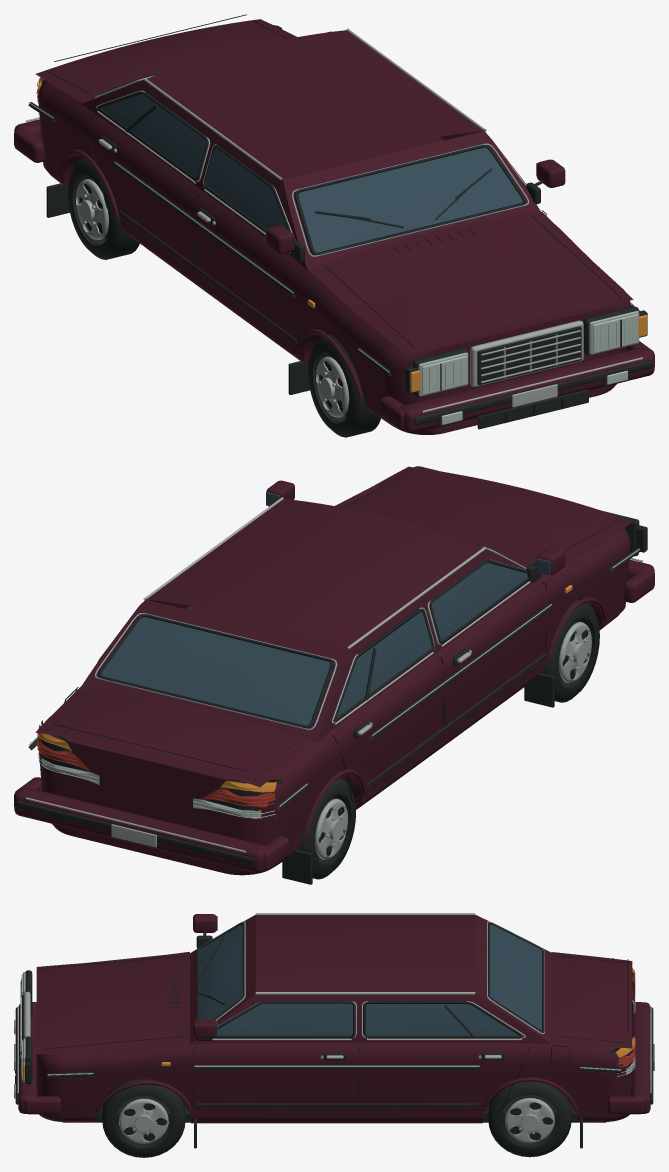
The model's file is luxury_sedan.glb.
3 views of the same model, one above another, from view 1: azimuth 30°, elevation 25°; view 2: azimuth 150°, elevation 25°; view 3: azimuth 270°, elevation 25° (orthographic). The views are drawn at different scales.
Parts seen in each view (by area): view 1: luxury_sedan shape study; view 2: luxury_sedan shape study; view 3: luxury_sedan shape study.
Boxes of the visible parts, x1=… form: luxury_sedan shape study: x1=14, y1=14, x2=654, y2=437; luxury_sedan shape study: x1=14, y1=466, x2=654, y2=884; luxury_sedan shape study: x1=14, y1=913, x2=654, y2=1157.
Size of the model in its own units: 2.16 by 1.48 by 5.21.
